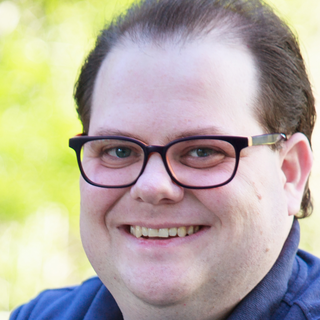eye: (176, 143, 227, 162), (100, 143, 141, 164)
